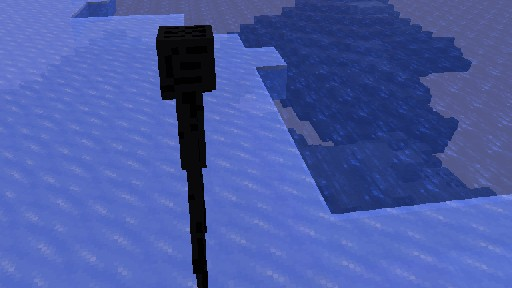enderman: (155, 24, 216, 288)
